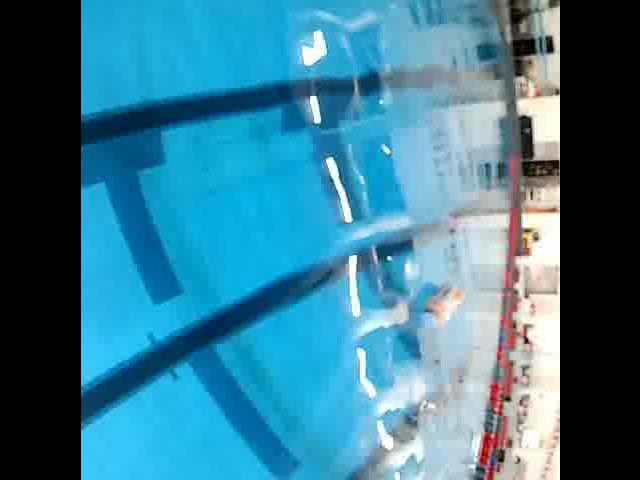Bottle: (414, 278, 466, 338)
